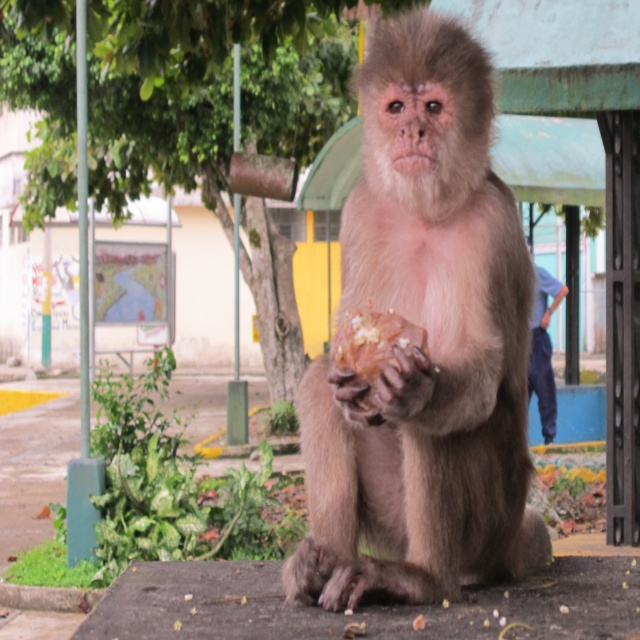Monkey: (282, 1, 552, 613)
